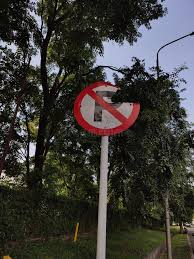No parking: (71, 76, 142, 141)
